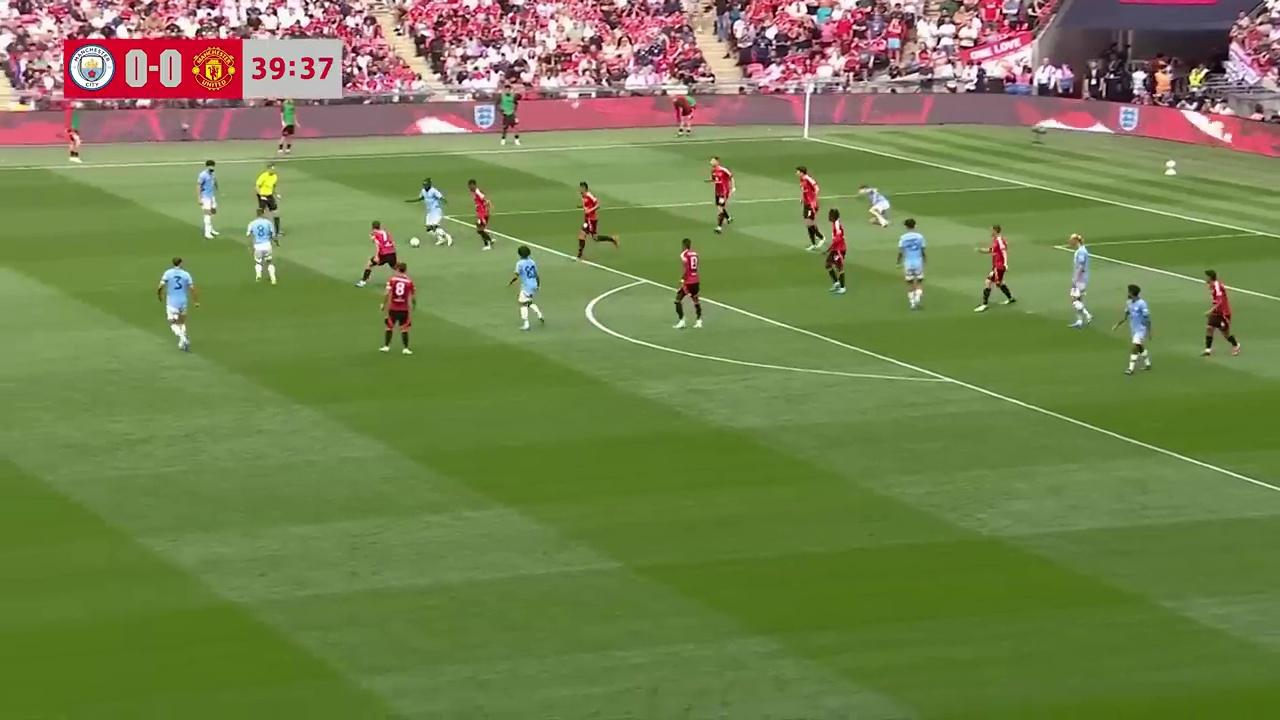ball: (408, 234, 420, 248)
player: (158, 256, 200, 351), (1112, 283, 1153, 375), (973, 224, 1016, 311), (379, 261, 416, 354), (574, 182, 615, 262), (1203, 270, 1240, 357), (508, 246, 546, 330), (357, 219, 401, 286), (895, 218, 926, 310), (674, 238, 704, 329), (244, 209, 278, 285), (419, 178, 453, 247), (1068, 232, 1092, 327), (796, 166, 822, 250), (707, 156, 734, 233), (824, 209, 847, 294), (468, 181, 495, 251), (196, 159, 219, 239), (857, 185, 891, 228)
referee: (254, 163, 282, 236)
